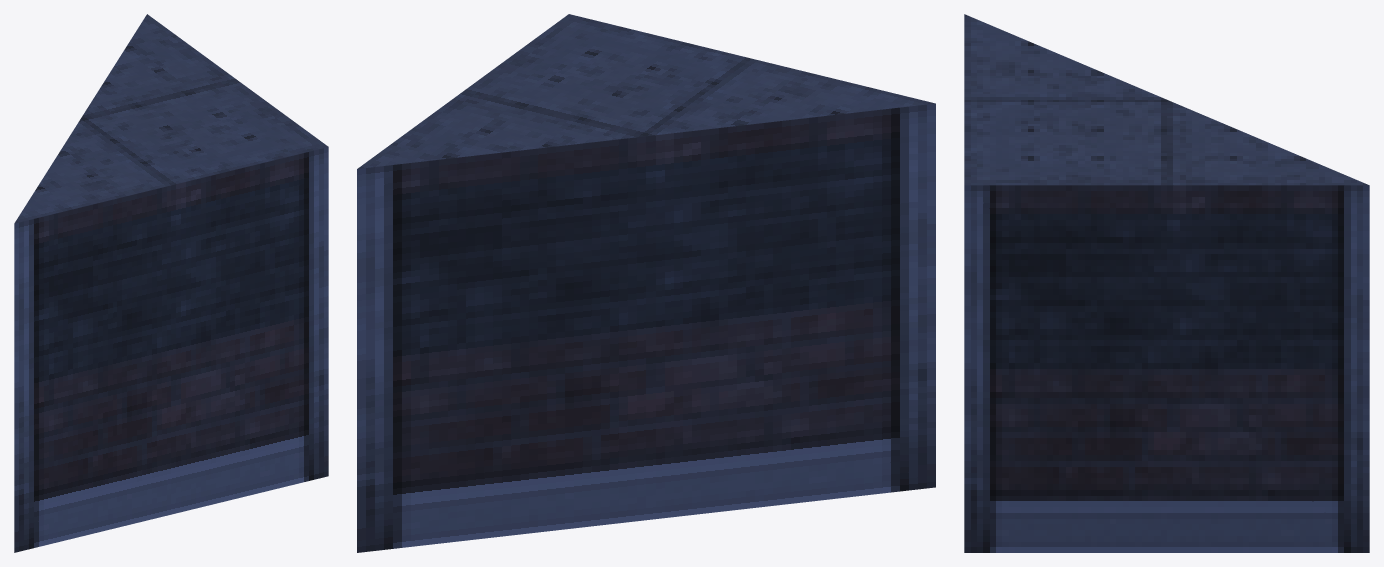
The picture shows the model from 3 angles, left to right: view 1: azimuth 30°, elevation 25°; view 2: azimuth 150°, elevation 25°; view 3: azimuth 270°, elevation 25°; orthographic projection. The views are drawn at different scales.
Parts seen in each view (by area): view 1: wall-a-painted-diagonal; view 2: wall-a-painted-diagonal; view 3: wall-a-painted-diagonal.
Boxes of the visible parts, x1,y1,x2,y2 form: wall-a-painted-diagonal: (14, 14, 328, 552); wall-a-painted-diagonal: (357, 14, 935, 552); wall-a-painted-diagonal: (964, 14, 1369, 552).
Bounding box in the file's own units: 1 × 1 × 1.
Materials: 2 (2 with a texture image).
